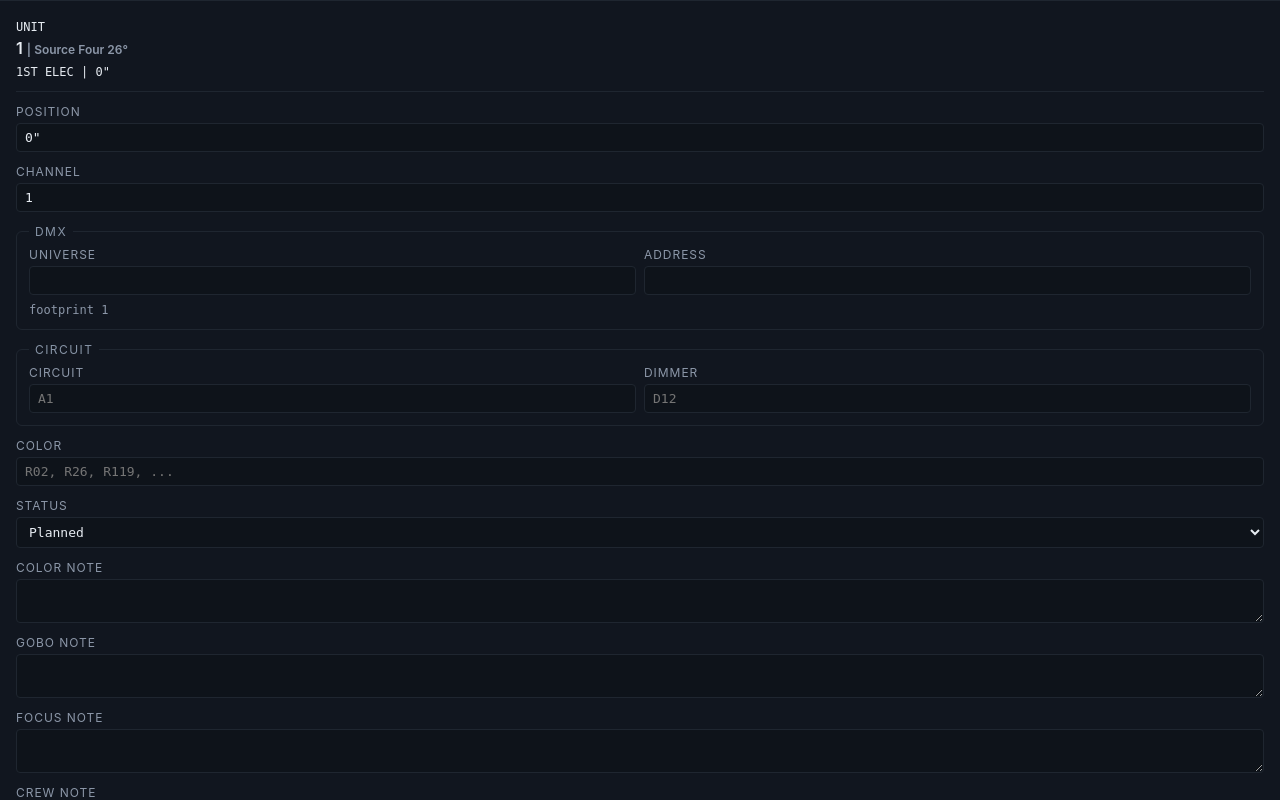
Test: PF-UX-001 — a committed edit does not steal focus or drop keystrokes › keeps focus in the field across a debounced commit and keeps typing
The width and height of the screenshot is (1280, 800).
Replace the text in the field showing "1" with "7": point(640, 198) x1=16 y1=183 x2=1264 y2=212
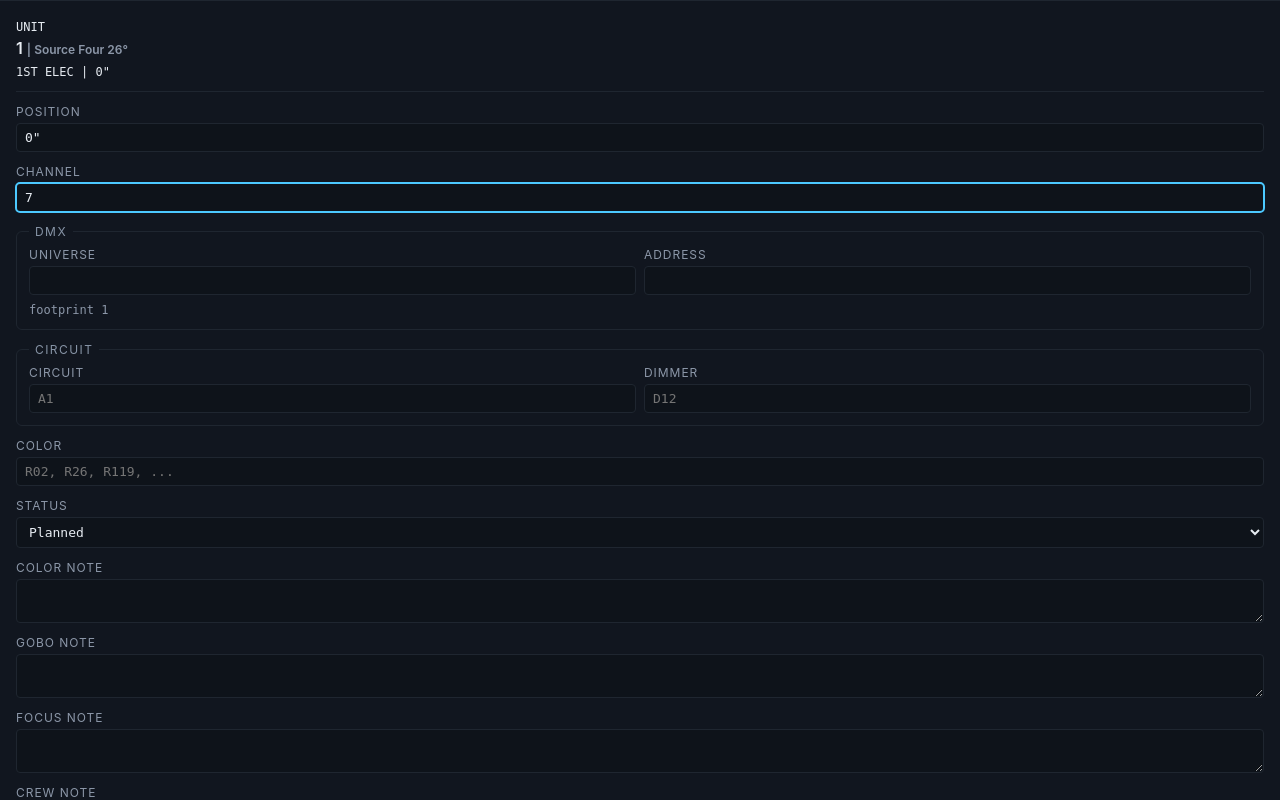
In the field showing "1": point(640, 198) x1=16 y1=183 x2=1264 y2=212, type "3"
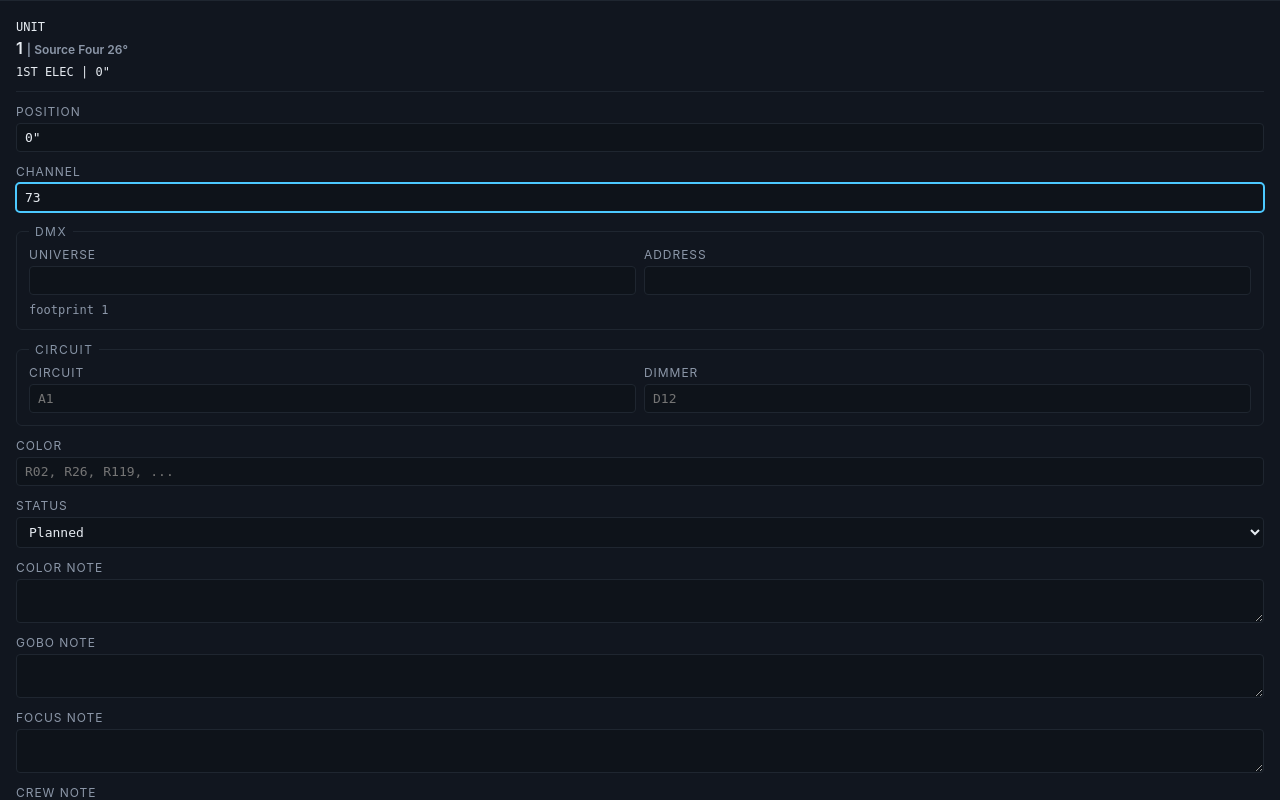
Check: the field showing "1" holds "73", box x1=16 y1=183 x2=1264 y2=212
